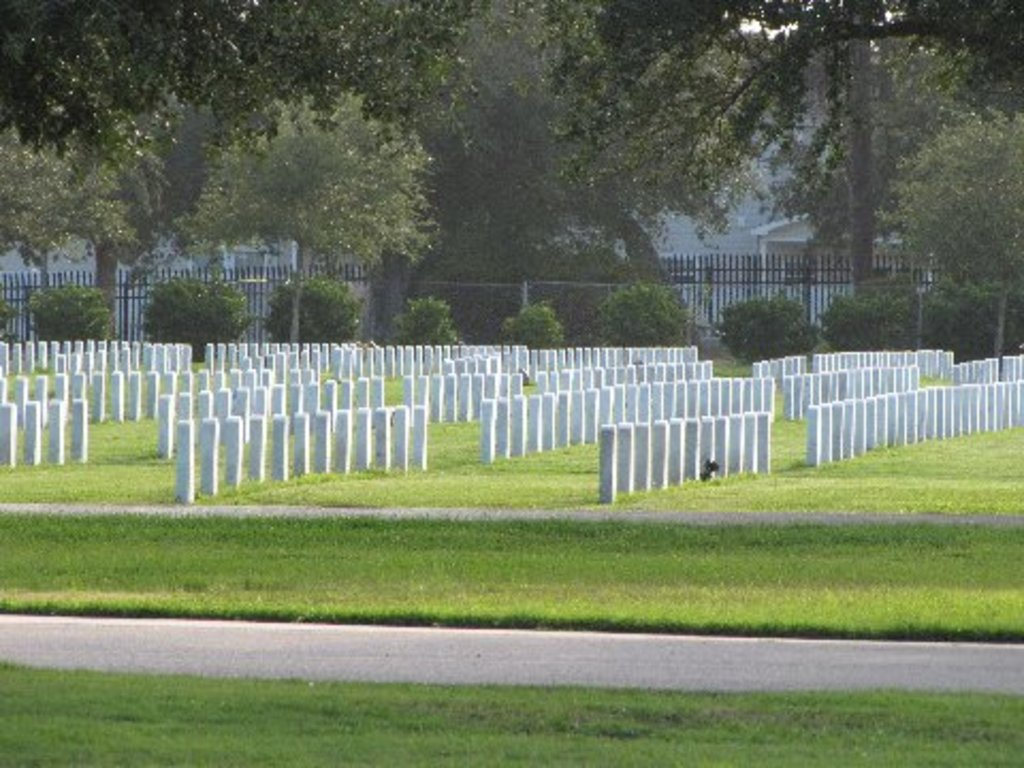Tree: (0, 0, 1024, 370)
